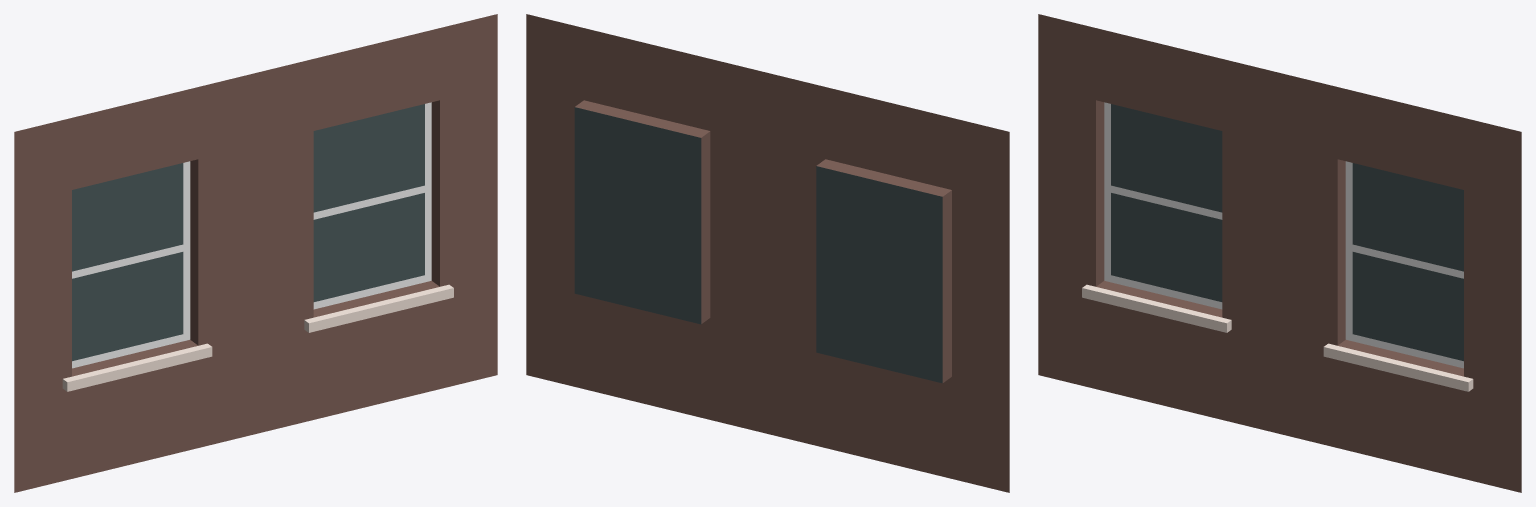
File: mid-w1.fbx
3 views of the same model, side by side, from view 1: azimuth 30°, elevation 25°; view 2: azimuth 150°, elevation 25°; view 3: azimuth 330°, elevation 25° (orthographic).
Parts seen in each view (by area): view 1: a2007/500/mid-w1; view 2: a2007/500/mid-w1; view 3: a2007/500/mid-w1.
Boxes of the visible parts, <box> form: a2007/500/mid-w1: <box>14,14,497,492</box>; a2007/500/mid-w1: <box>526,14,1009,492</box>; a2007/500/mid-w1: <box>1038,14,1521,492</box>.
Bounding box in the file's own units: 4.2 × 3 × 0.21.
